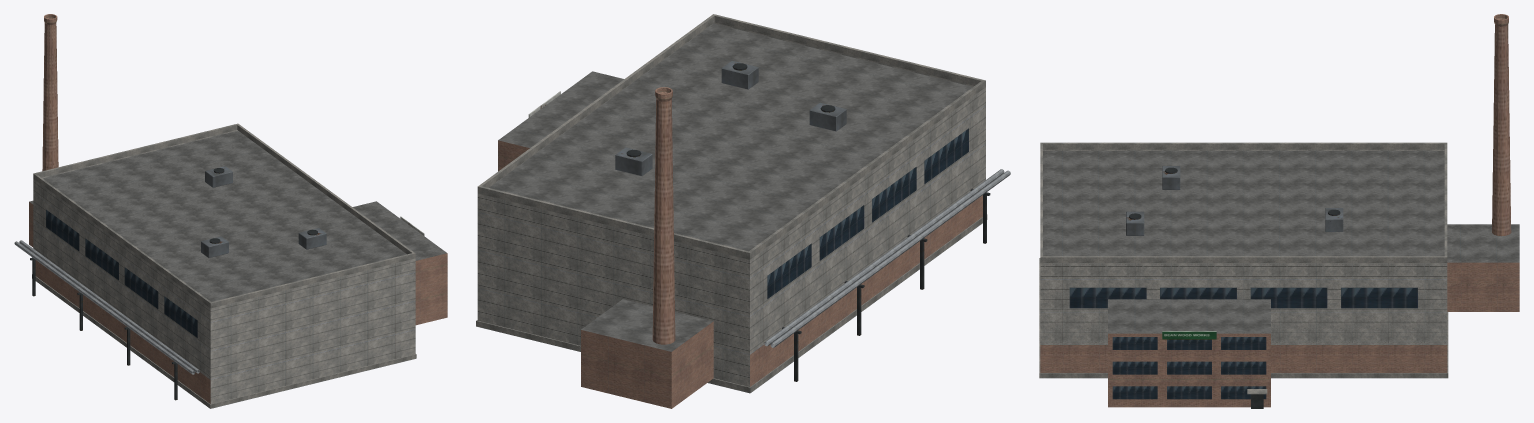
The model's file is wh_annex.glb.
The picture shows the model from 3 angles, left to right: view 1: azimuth 30°, elevation 25°; view 2: azimuth 150°, elevation 25°; view 3: azimuth 270°, elevation 25°; orthographic projection. The views are drawn at different scales.
Visible parts, largest first — view 1: body|props; view 2: body|props; view 3: body|props.
Boxes of the visible parts, x1,y1,x2,y2 form: body|props: [14, 14, 447, 408]; body|props: [476, 14, 1010, 408]; body|props: [1039, 14, 1519, 408].
Size of the model in its own units: 43.3 by 32.8 by 53.1.
Materials: 1 (1 with a texture image).
